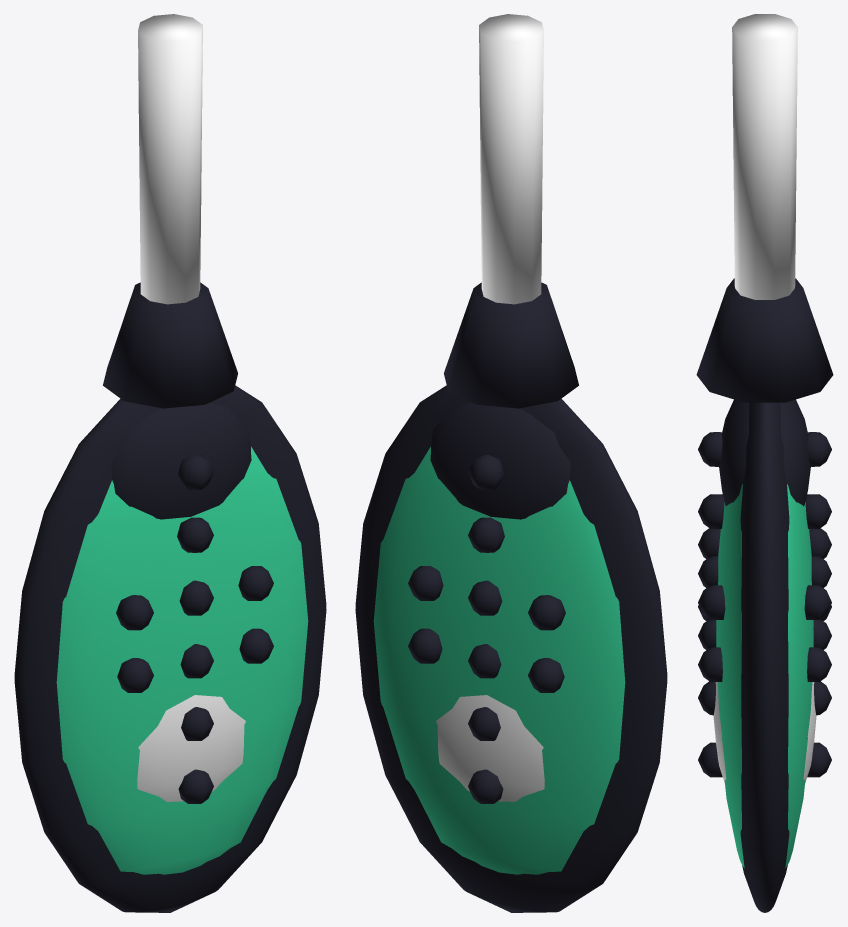
File: racket_gota.glb
3 views of the same model, side by side, from view 1: azimuth 30°, elevation 25°; view 2: azimuth 150°, elevation 25°; view 3: azimuth 270°, elevation 25° (orthographic).
Parts seen in each view (by area): view 1: Racket; view 2: Racket; view 3: Racket.
Boxes of the visible parts, left/top/right/bottom form: Racket: left=14, top=14, right=326, bottom=912; Racket: left=355, top=14, right=667, bottom=912; Racket: left=696, top=14, right=833, bottom=912.
Bounding box in the file's own units: 0.26 × 0.705 × 0.1.
